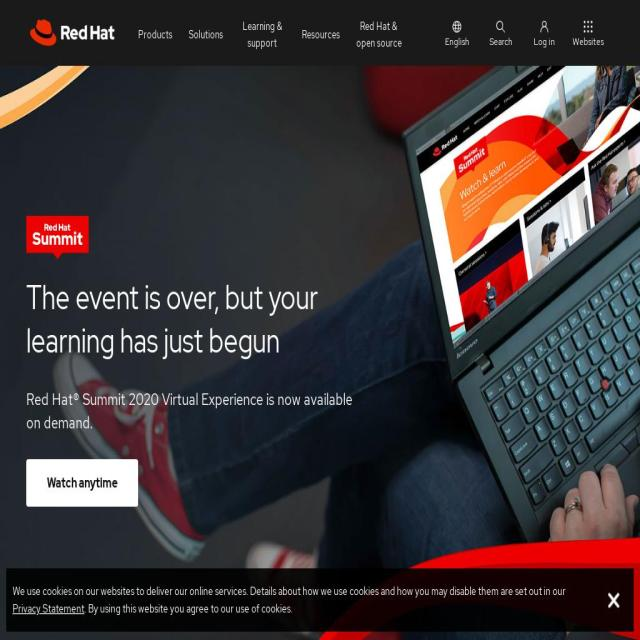button: (26, 459, 138, 508), (30, 18, 114, 48), (12, 600, 84, 618), (604, 588, 624, 612)
heading: (26, 276, 362, 363)
image: (26, 216, 89, 260), (607, 591, 621, 611)
link: (54, 1, 85, 49), (356, 19, 402, 50), (242, 19, 282, 50), (301, 28, 340, 42), (138, 28, 173, 42), (189, 28, 223, 42), (572, 35, 604, 48), (444, 35, 470, 48), (488, 35, 512, 48), (534, 35, 555, 48)
text: (26, 387, 362, 435), (12, 584, 568, 598), (85, 601, 292, 616)
